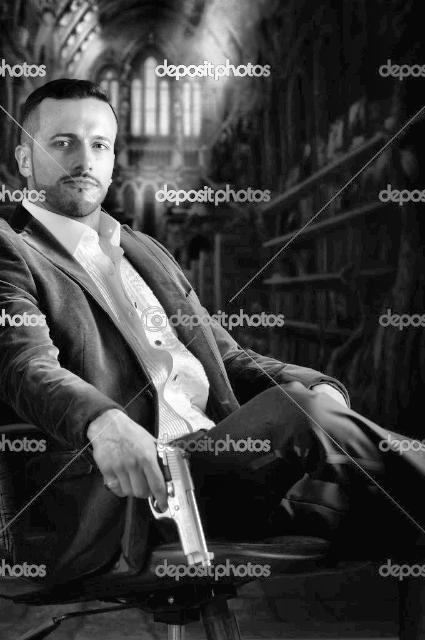pistol: (93, 432, 226, 572)
